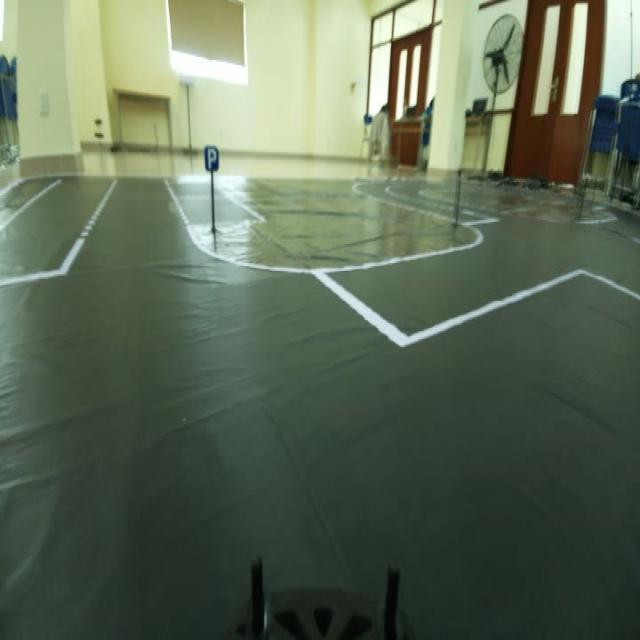parking: (200, 137, 224, 177)
